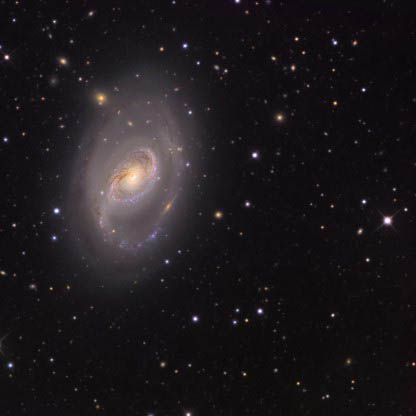Messier 96: (57, 60, 208, 295)
